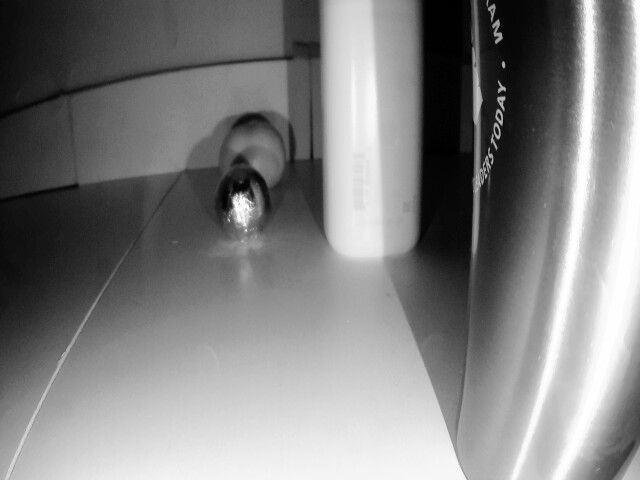silver: (217, 162, 272, 252)
